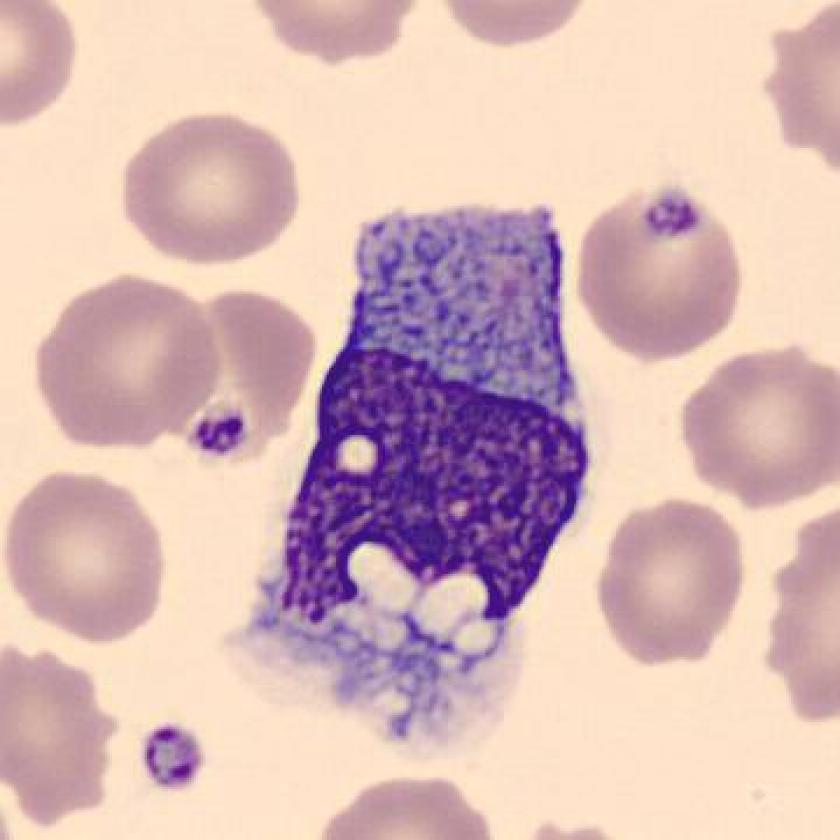monocyte: (239, 188, 638, 758)
